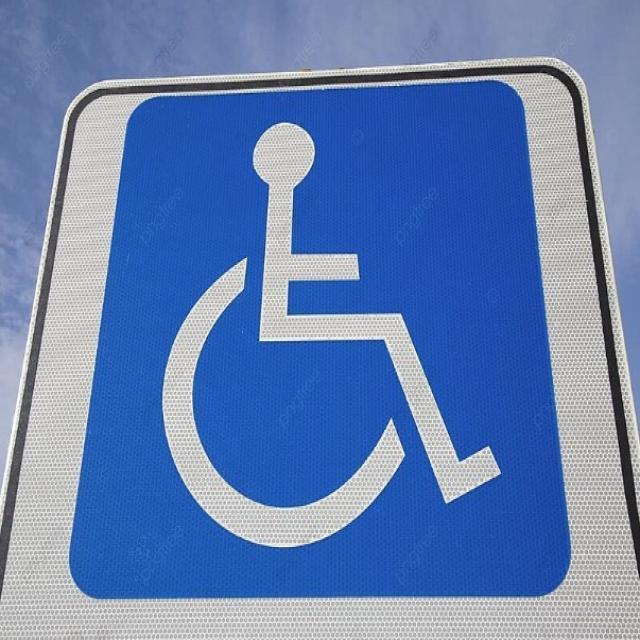symbol_of_access: (62, 76, 574, 604)
